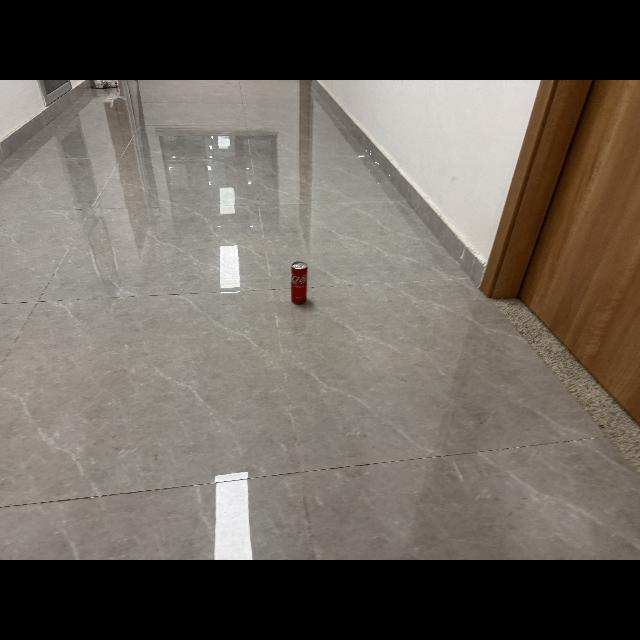Cola: (288, 258, 312, 308)
